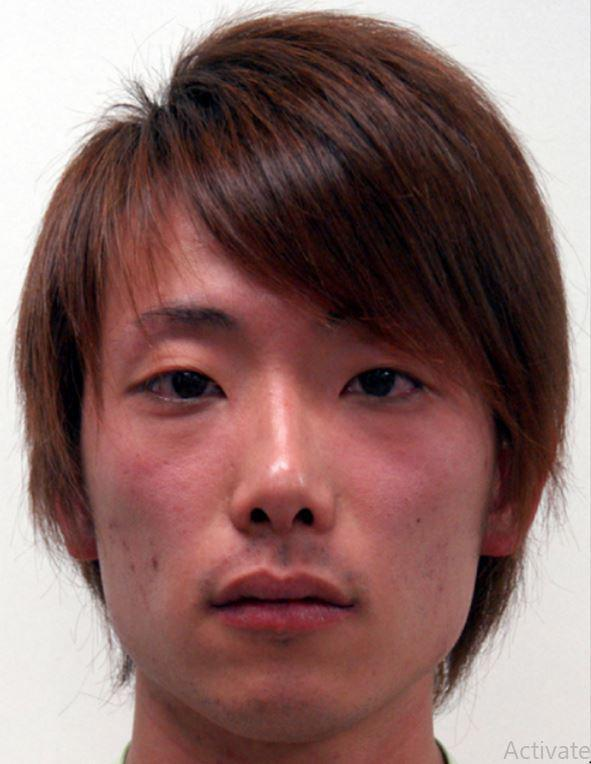Drunk: (96, 240, 478, 720)
